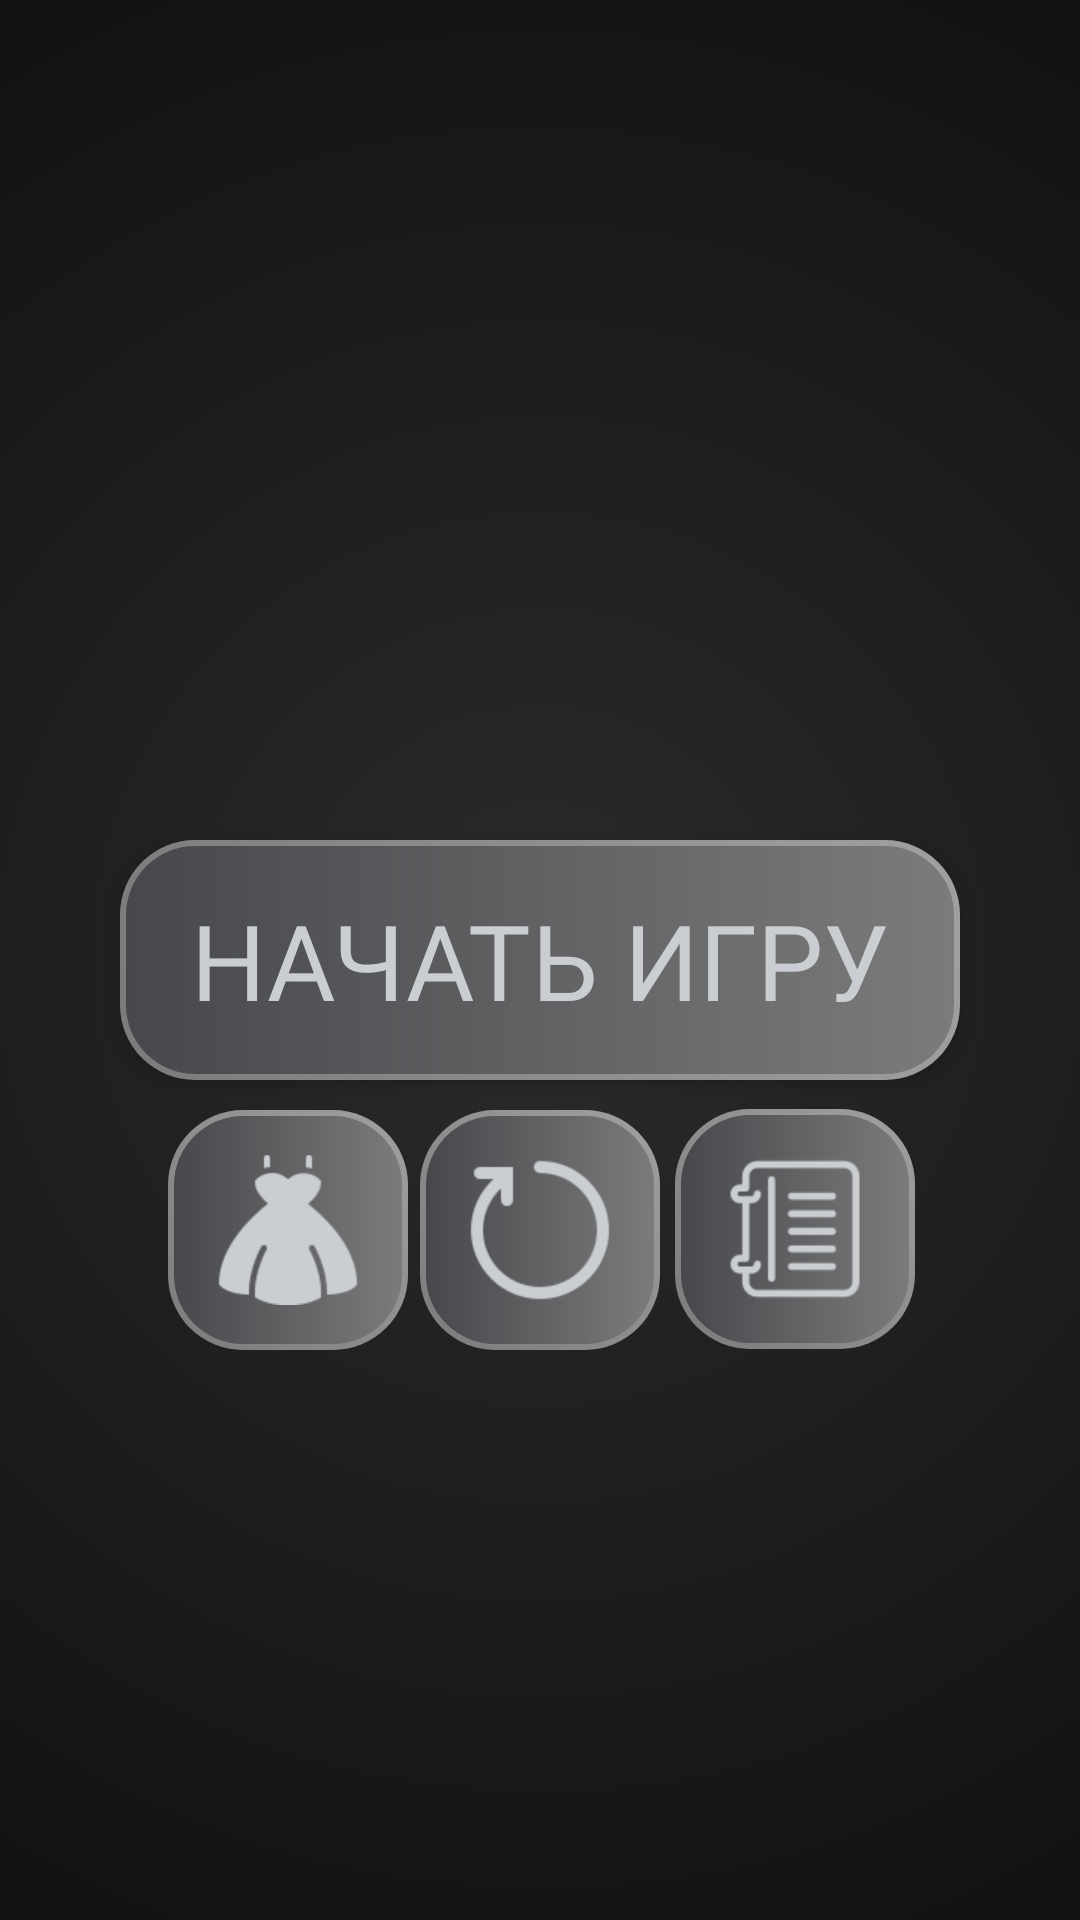

Where to tap for icons on this 1080px x 1920px app screen, as point (x, y):
гардероб: point (288, 1230)
главы: point (795, 1229)
заново: point (540, 1230)
